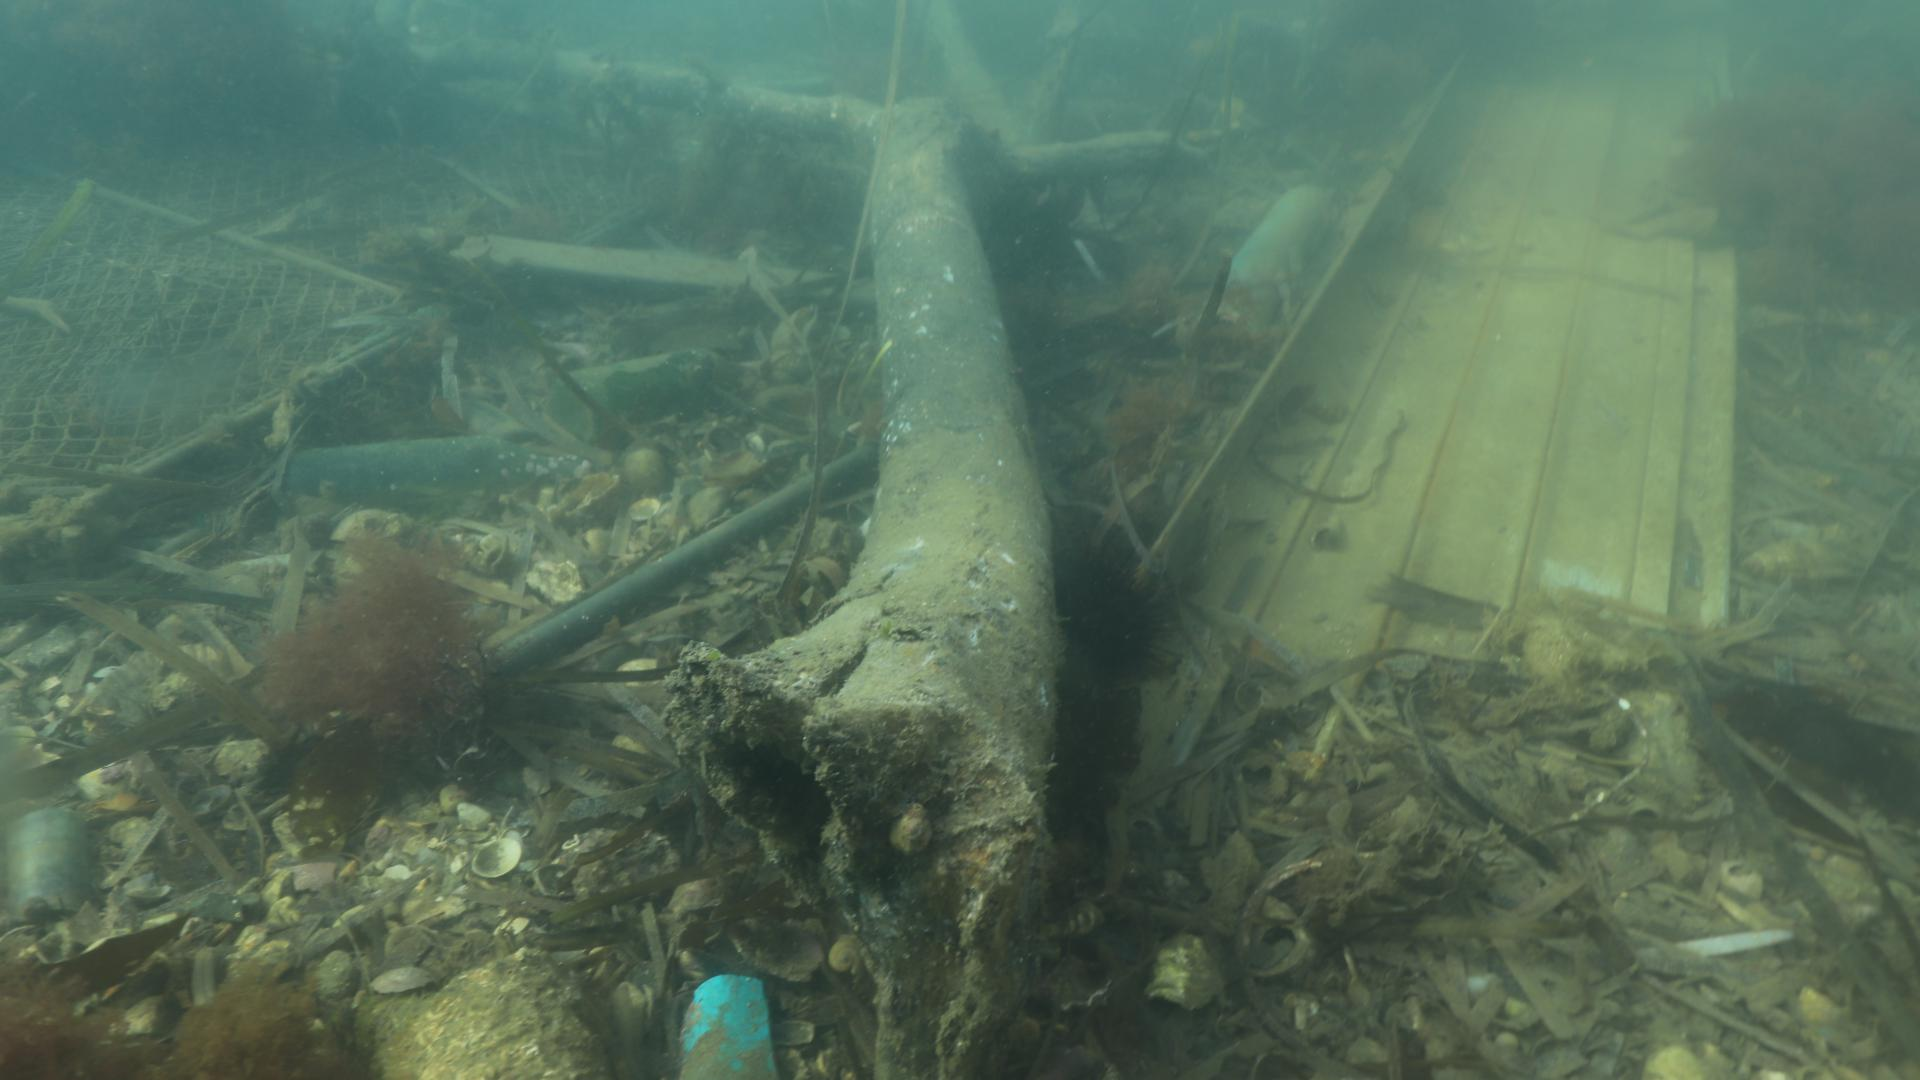wood: (405, 3, 1234, 934)
